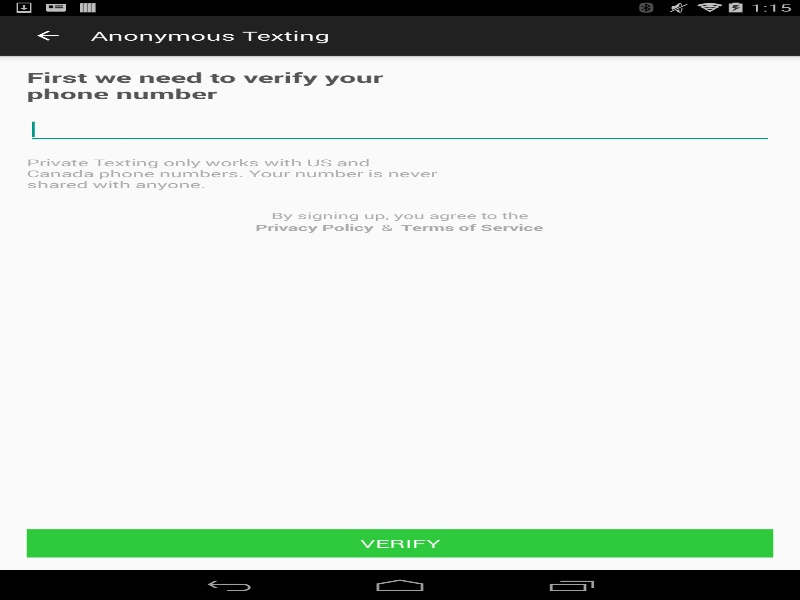Button: (26, 529, 773, 557), (10, 15, 85, 55)
Input: (26, 115, 773, 143)
